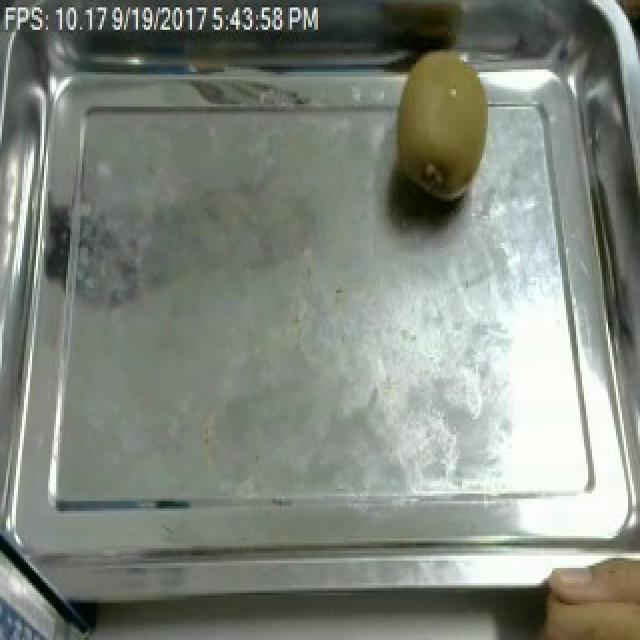Fruit: (372, 47, 510, 221), (514, 543, 640, 640)
